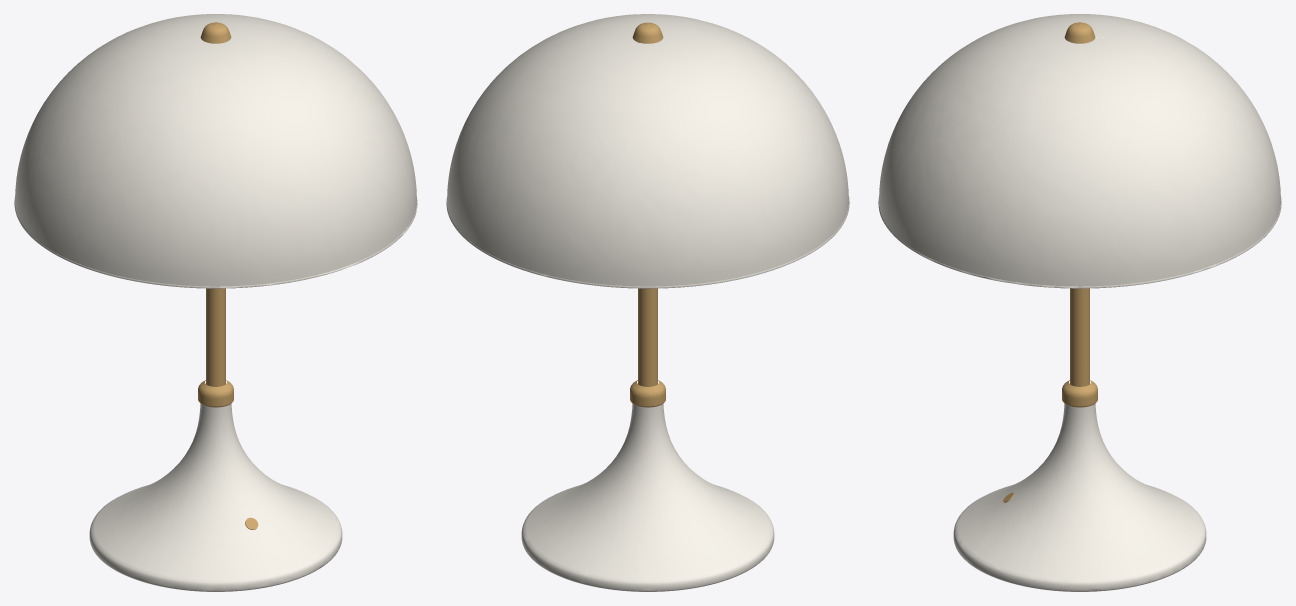
Rendered from lumen-led-table-lamp.glb.
3 views of the same model, side by side, from view 1: azimuth 30°, elevation 25°; view 2: azimuth 150°, elevation 25°; view 3: azimuth 270°, elevation 25° (orthographic).
Parts seen in each view (by area): view 1: shade, base, stem, shade-rim, collar, finial; view 2: shade, base, stem, shade-rim, collar, finial; view 3: shade, base, stem, shade-rim, collar, finial.
Boxes of the visible parts, <box> form: shade: <box>15,14,416,286</box>; base: <box>89,403,342,591</box>; stem: <box>206,286,225,386</box>; shade-rim: <box>14,198,417,288</box>; collar: <box>198,380,233,407</box>; finial: <box>200,22,231,43</box>; shade: <box>447,14,848,286</box>; base: <box>521,403,774,591</box>; stem: <box>638,286,657,386</box>; shade-rim: <box>446,196,849,288</box>; collar: <box>630,380,665,407</box>; finial: <box>632,22,663,43</box>; shade: <box>879,14,1280,286</box>; base: <box>953,403,1206,591</box>; stem: <box>1070,286,1089,386</box>; shade-rim: <box>878,198,1281,288</box>; collar: <box>1062,380,1097,407</box>; finial: <box>1064,22,1095,43</box>.
Size of the model in its own units: 0.2487 by 0.3525 by 0.2487.
